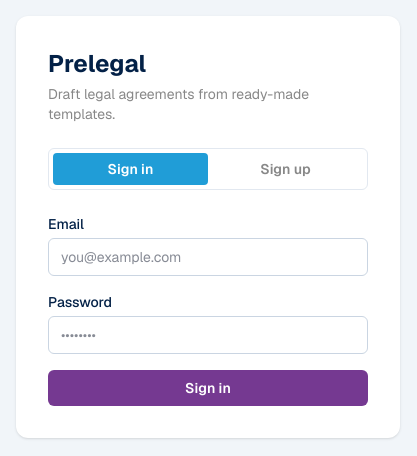
Scenario: LoginPage › switches to the sign up tab and updates the submit label
Click the button "Sign up". click: (286, 169)
box: [208, 153, 363, 185]
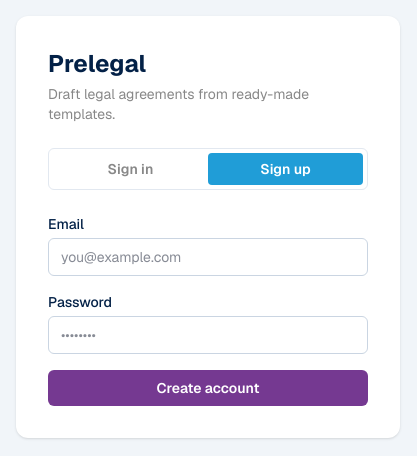
Result: the button with test id "submit-button" reads "Create account" at [48, 370, 368, 406]
